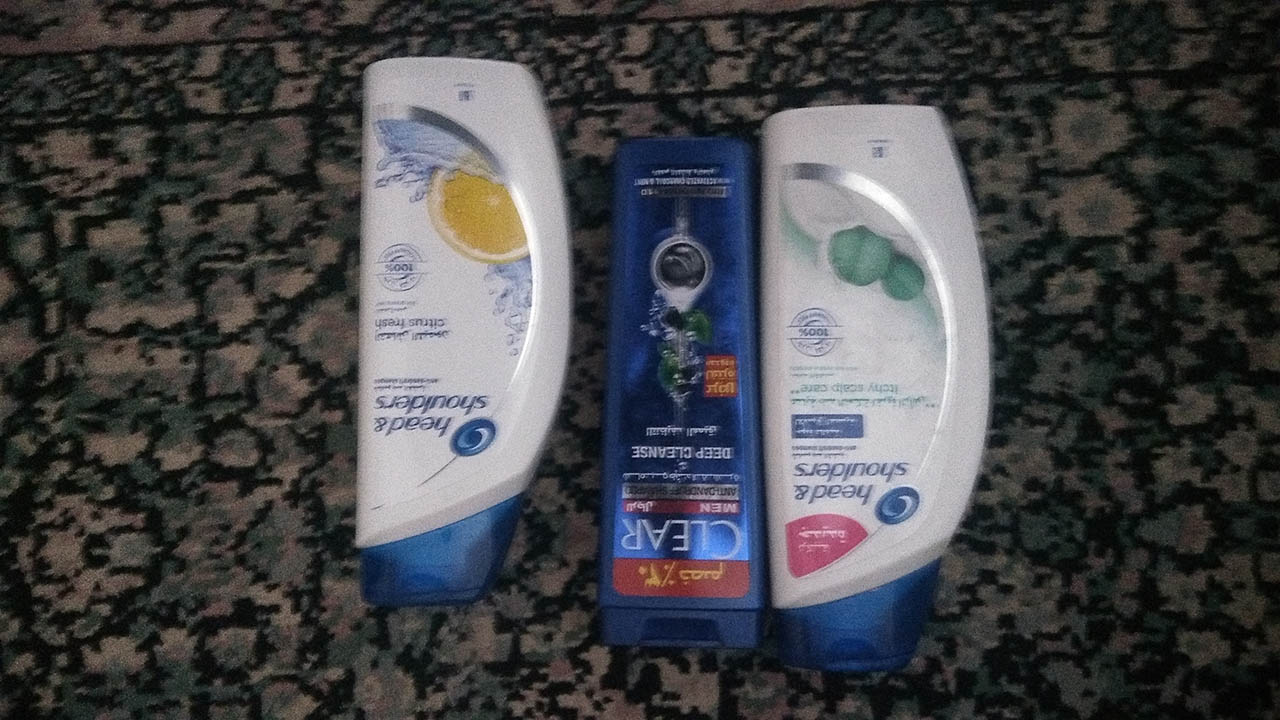Shampoo-Clear 4.7$: (591, 126, 751, 652)
shampoo-Lemon 3.5$: (349, 52, 542, 607)
shampoo-green 4.5$: (761, 115, 982, 648)
